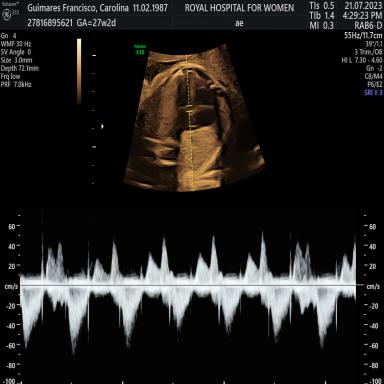Ultrasound-Waves: (26, 212, 355, 384)
